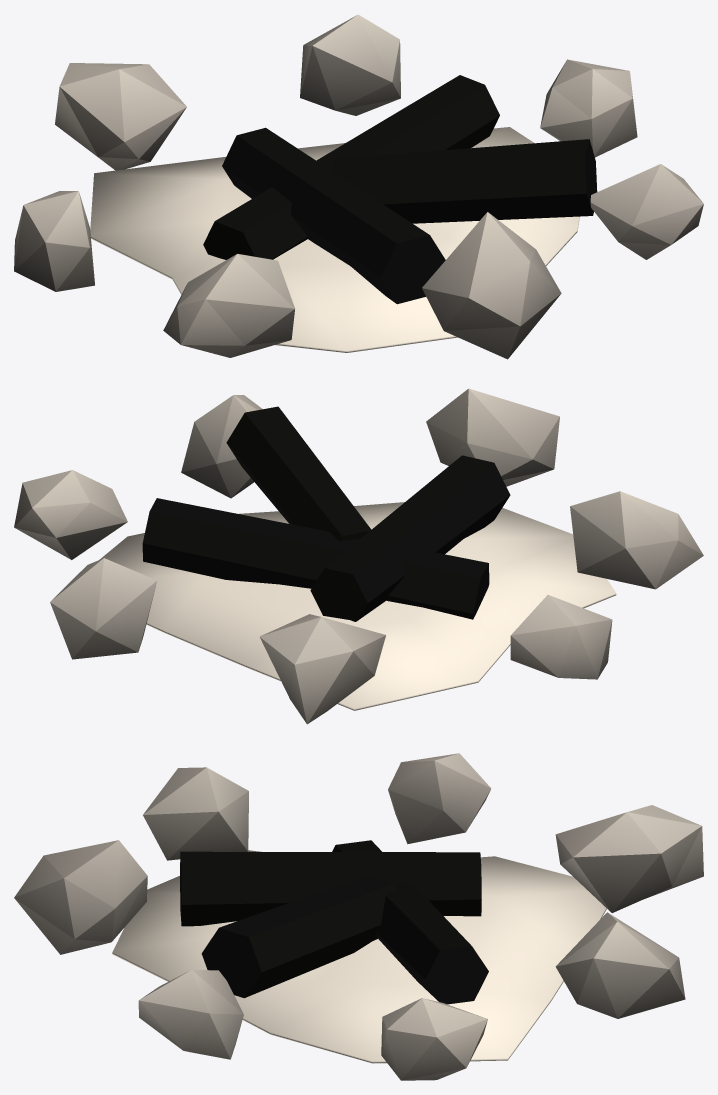
The model's file is SM_VKI_Overlay_Debris_Campfire.fbx.
3 renders of one model, top to bottom at view 1: azimuth 30°, elevation 25°; view 2: azimuth 150°, elevation 25°; view 3: azimuth 270°, elevation 25°, orthographic. The views are drawn at different scales.
Parts seen in each view (by area): view 1: SM_VKI_Overlay_Debris_Campfire.001; view 2: SM_VKI_Overlay_Debris_Campfire.001; view 3: SM_VKI_Overlay_Debris_Campfire.001.
Boxes of the visible parts, x1=… form: SM_VKI_Overlay_Debris_Campfire.001: x1=14, y1=14, x2=703, y2=359; SM_VKI_Overlay_Debris_Campfire.001: x1=14, y1=388, x2=703, y2=724; SM_VKI_Overlay_Debris_Campfire.001: x1=14, y1=753, x2=703, y2=1080.
Size of the model in its own units: 0.8214 by 0.1671 by 0.828.
